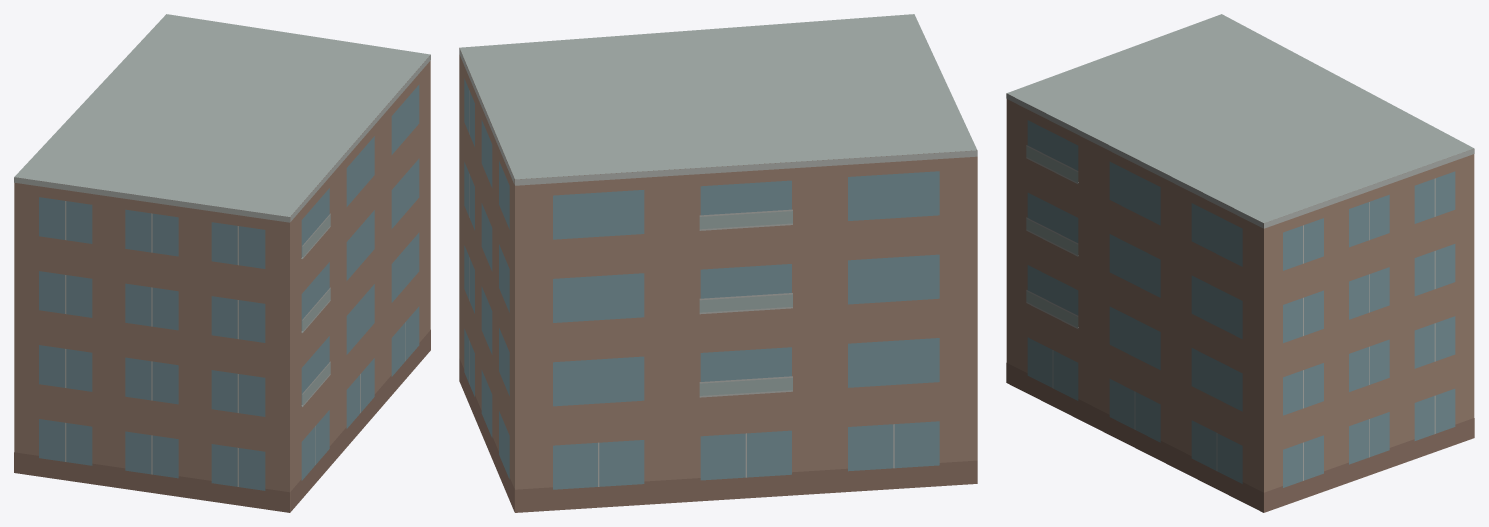
File: survey-upis-32991464.glb
3 renders of one model, left to right at view 1: azimuth 30°, elevation 25°; view 2: azimuth 150°, elevation 25°; view 3: azimuth 270°, elevation 25°, orthographic. The views are drawn at different scales.
Parts seen in each view (by area): view 1: survey-upis-32991464.tmp; view 2: survey-upis-32991464.tmp; view 3: survey-upis-32991464.tmp.
Part boxes in pixels (box(x1,y1,x2,y2)): survey-upis-32991464.tmp: box(14, 14, 430, 512); survey-upis-32991464.tmp: box(459, 14, 977, 512); survey-upis-32991464.tmp: box(1006, 14, 1474, 512).
Size of the model in its own units: 20 by 12.9 by 18.9.
